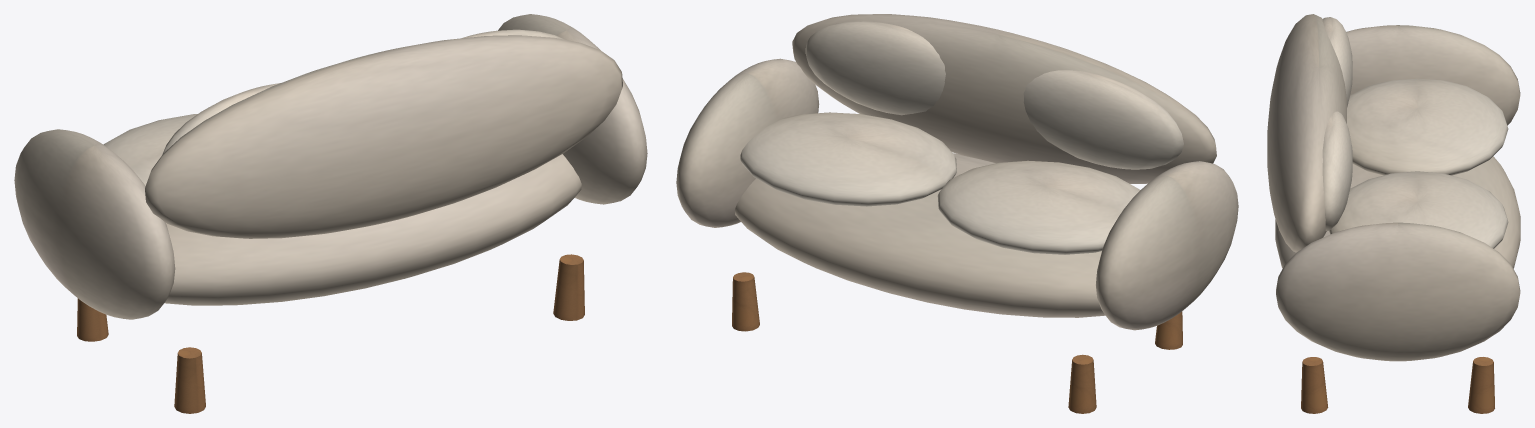
Rendered from ikea-saltsjobaden.glb.
The picture shows the model from 3 angles, left to right: view 1: azimuth 30°, elevation 25°; view 2: azimuth 150°, elevation 25°; view 3: azimuth 270°, elevation 25°; orthographic projection. The views are drawn at different scales.
Parts seen in each view (by area): view 1: primary (×4), wood (×3), cream (×2); view 2: primary (×4), cream (×4), wood (×3); view 3: primary (×4), cream (×4), wood (×2).
Boxes of the visible parts, x1,y1,x2,y2 form: primary (×4): (14,14,647,319); wood (×3): (77,254,584,413); cream (×2): (103,83,280,185); primary (×4): (676,14,1238,330); cream (×4): (740,21,1183,254); wood (×3): (732,272,1182,413); primary (×4): (1267,14,1520,361); cream (×4): (1322,17,1508,248); wood (×2): (1301,357,1494,413).
Size of the model in its own units: 1.66 by 0.8889 by 0.7809.
Materials: 3 (3 with a texture image).
